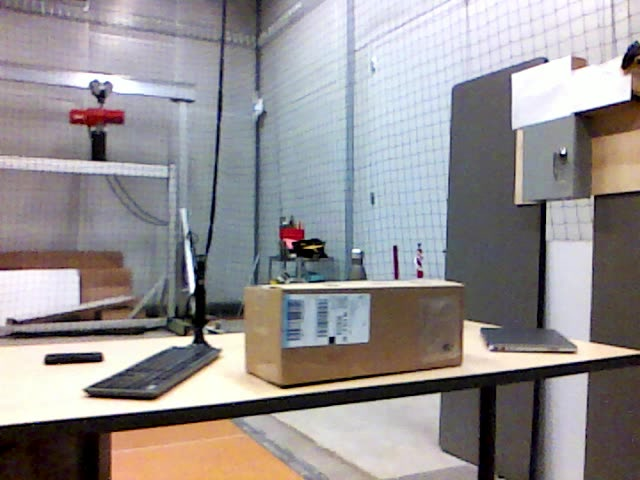box: (243, 279, 463, 384)
